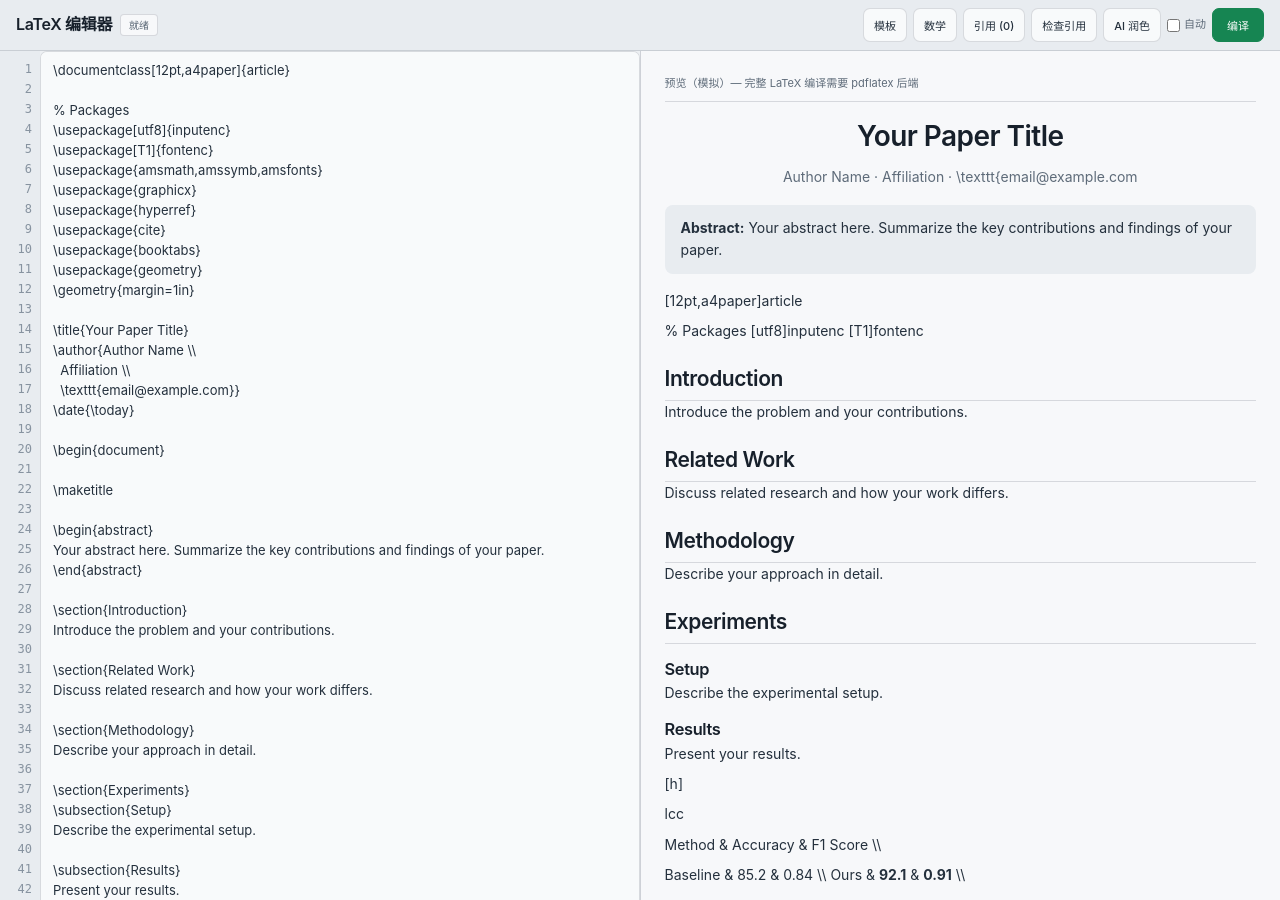
Test: LatexPreviewPage › should show math symbol panel when Math clicked
Click the button "数学": [935, 25] box x1=913 y1=8 x2=957 y2=42
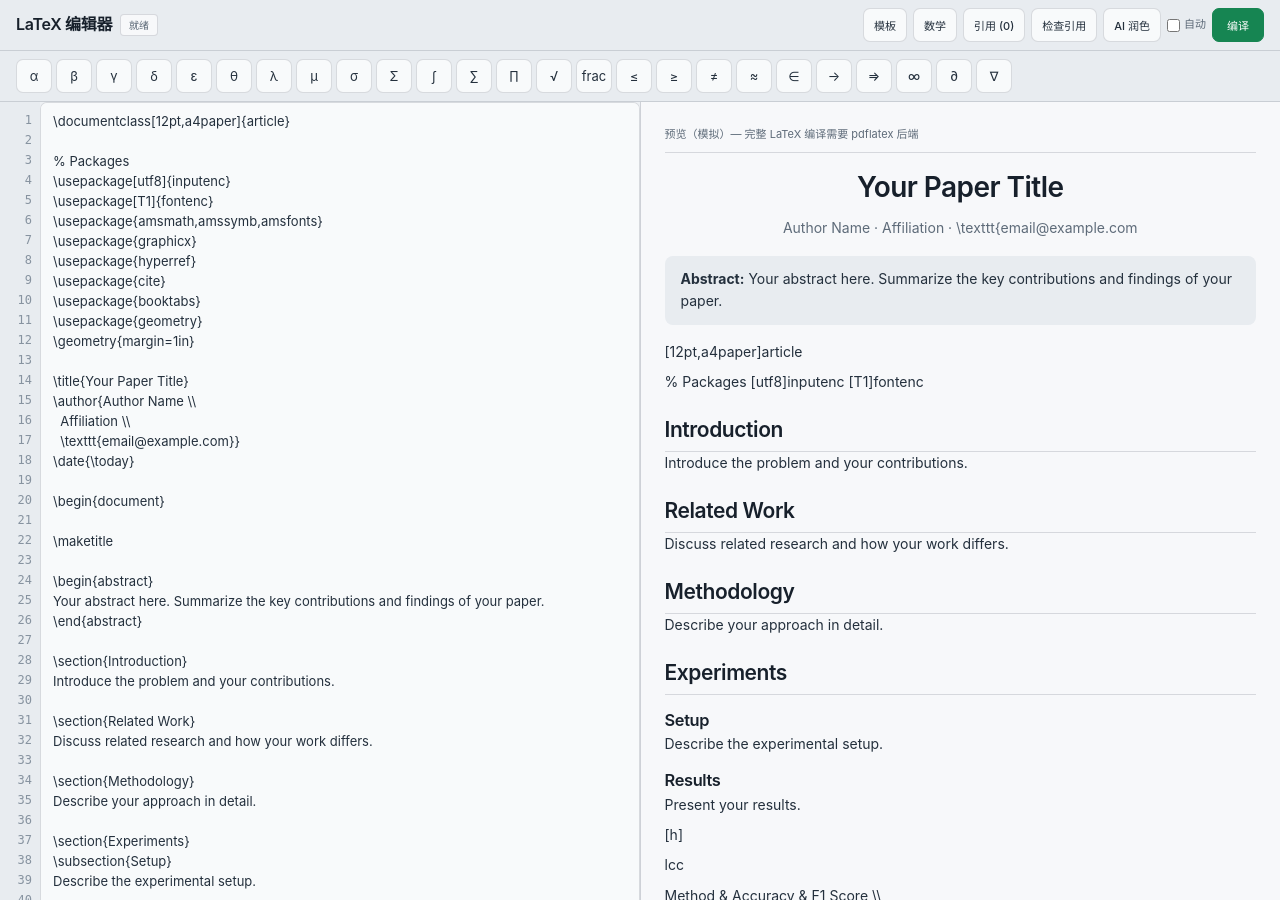
Expected: the button titled "\\alpha" is shown, x1=16 y1=59 x2=52 y2=93
Expected: the button titled "\\beta" is shown, x1=56 y1=59 x2=92 y2=93
